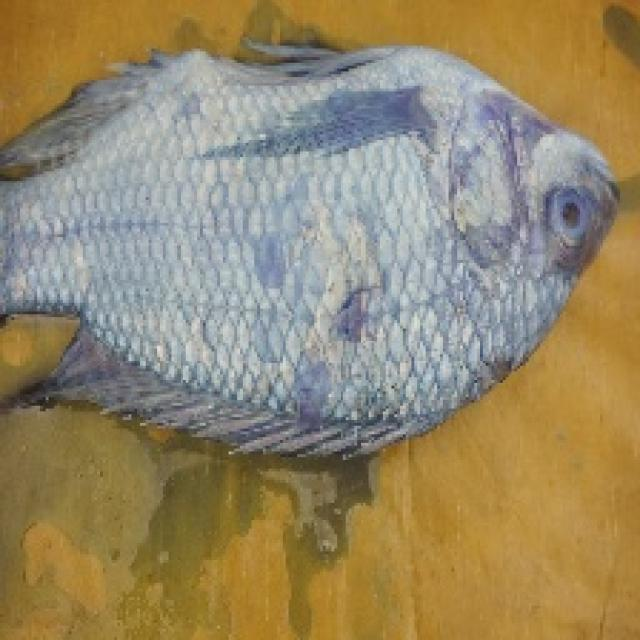Non-Fresh: (200, 83, 535, 381), (533, 177, 595, 256)
